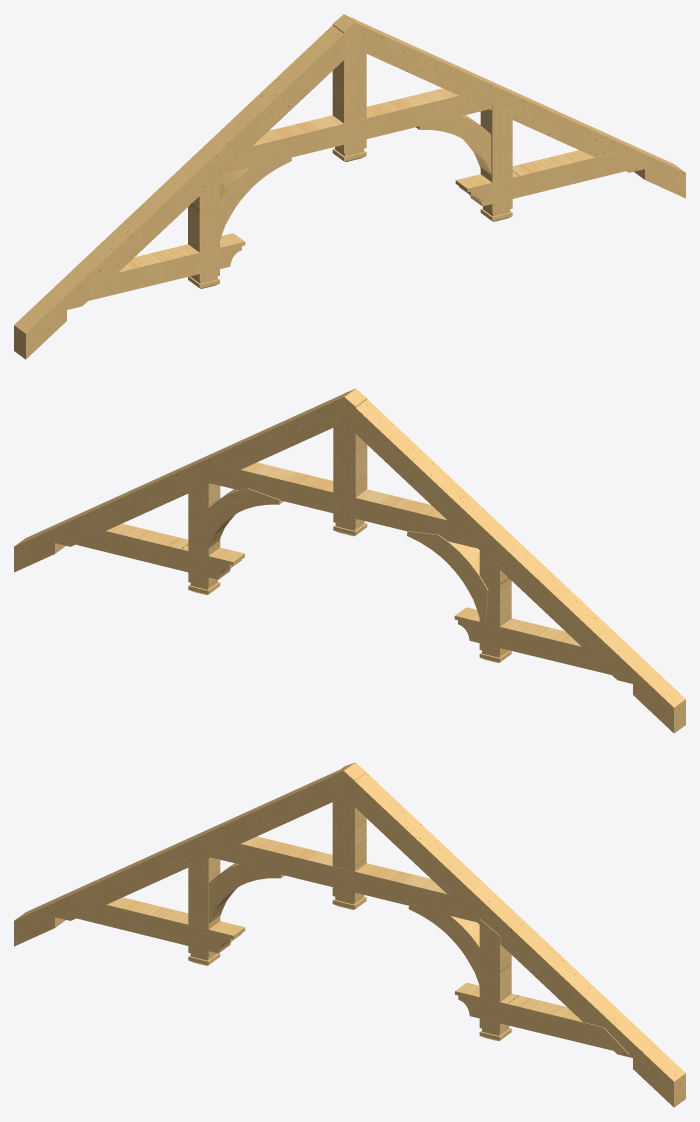
The model's file is hammer14_truss.glb.
3 views of the same model, one above another, from view 1: azimuth 30°, elevation 25°; view 2: azimuth 150°, elevation 25°; view 3: azimuth 330°, elevation 25° (orthographic).
Visible parts, largest first — view 1: hammer-truss; view 2: hammer-truss; view 3: hammer-truss.
Part boxes in pixels (x1,y1,x2,y2): hammer-truss: [14, 14, 685, 359]; hammer-truss: [14, 388, 685, 733]; hammer-truss: [14, 762, 685, 1107].
Bounding box in the file's own units: 4.89 × 1.81 × 0.1633.
1 material, 1 textured.
